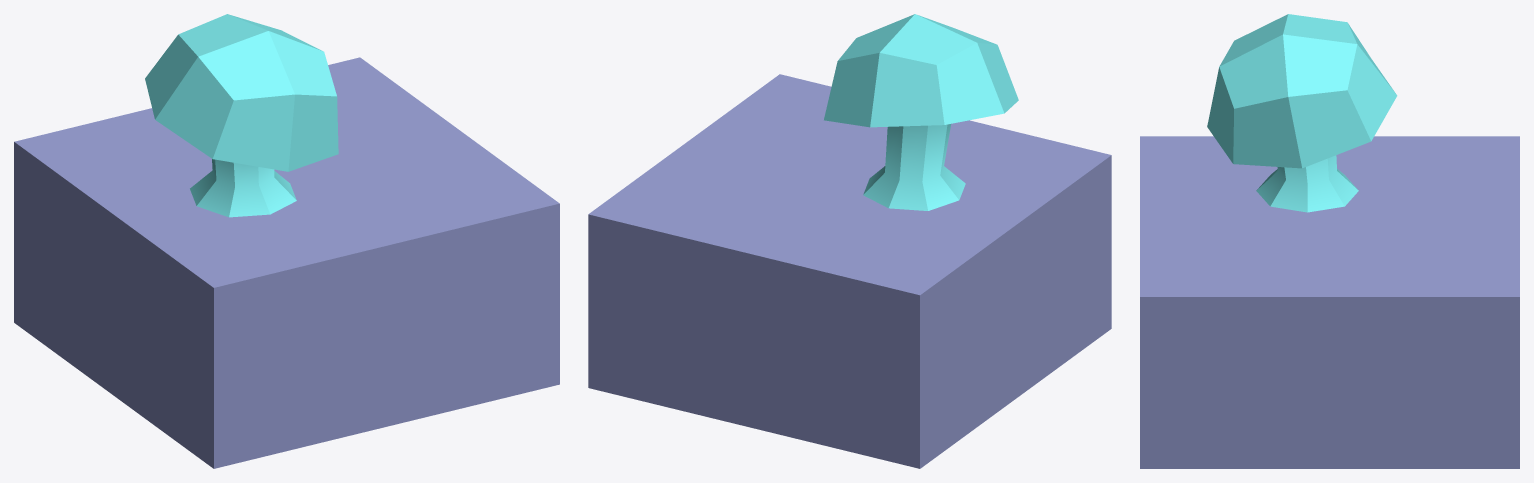
File: mushroomSingle.fbx
3 views of the same model, side by side, from view 1: azimuth 30°, elevation 25°; view 2: azimuth 150°, elevation 25°; view 3: azimuth 270°, elevation 25° (orthographic). The views are drawn at different scales.
Visible parts, largest first — view 1: mushroomSingle; view 2: mushroomSingle; view 3: mushroomSingle.
Part boxes in pixels (x1,y1,x2,y2): mushroomSingle: (14,14,559,468); mushroomSingle: (588,14,1111,468); mushroomSingle: (1140,14,1519,468).
Bounding box in the file's own units: 200 × 194 × 200.
